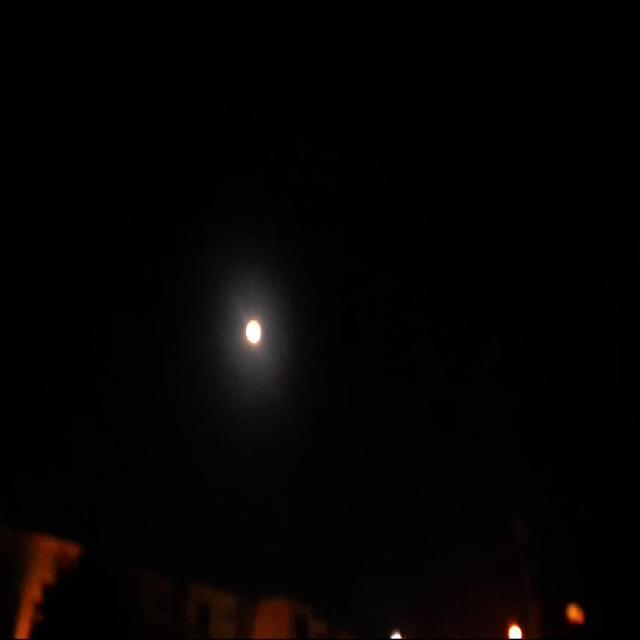moon: (243, 316, 265, 355)
